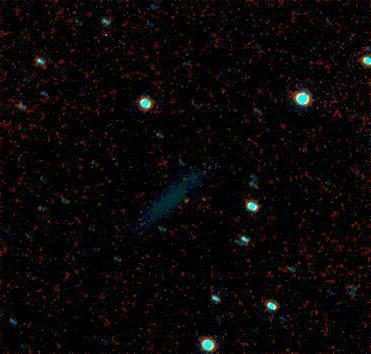star: (166, 189, 196, 219)
